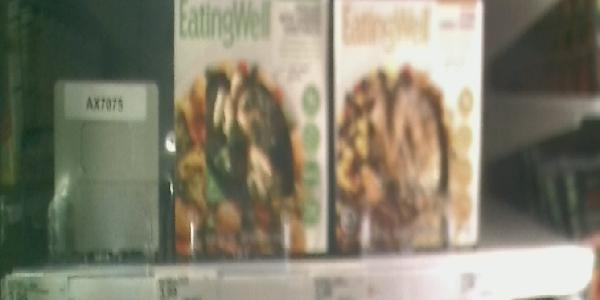pizza1: (175, 1, 326, 258), (334, 1, 481, 254)
